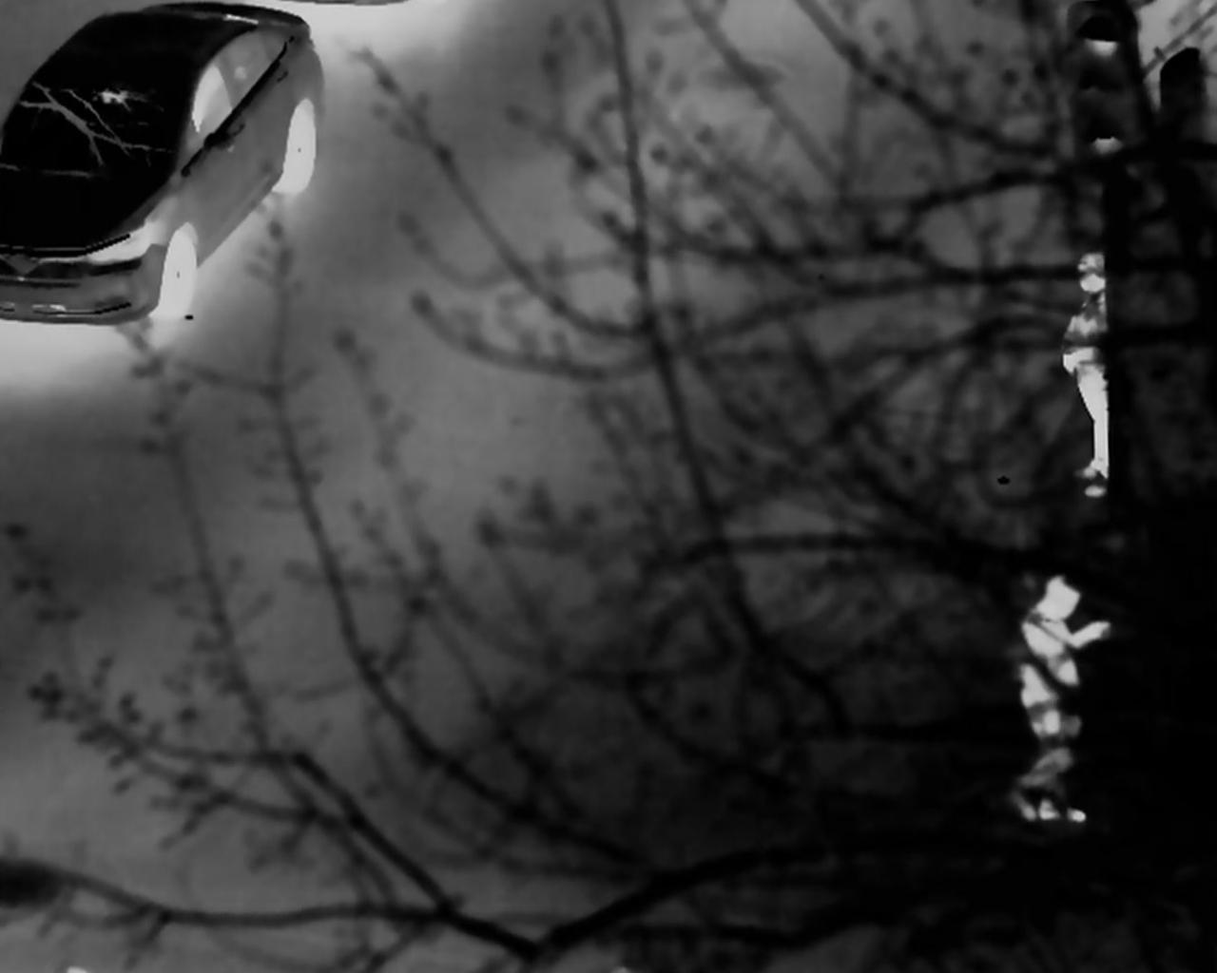person: (1003, 576, 1105, 830), (1054, 250, 1131, 487)
